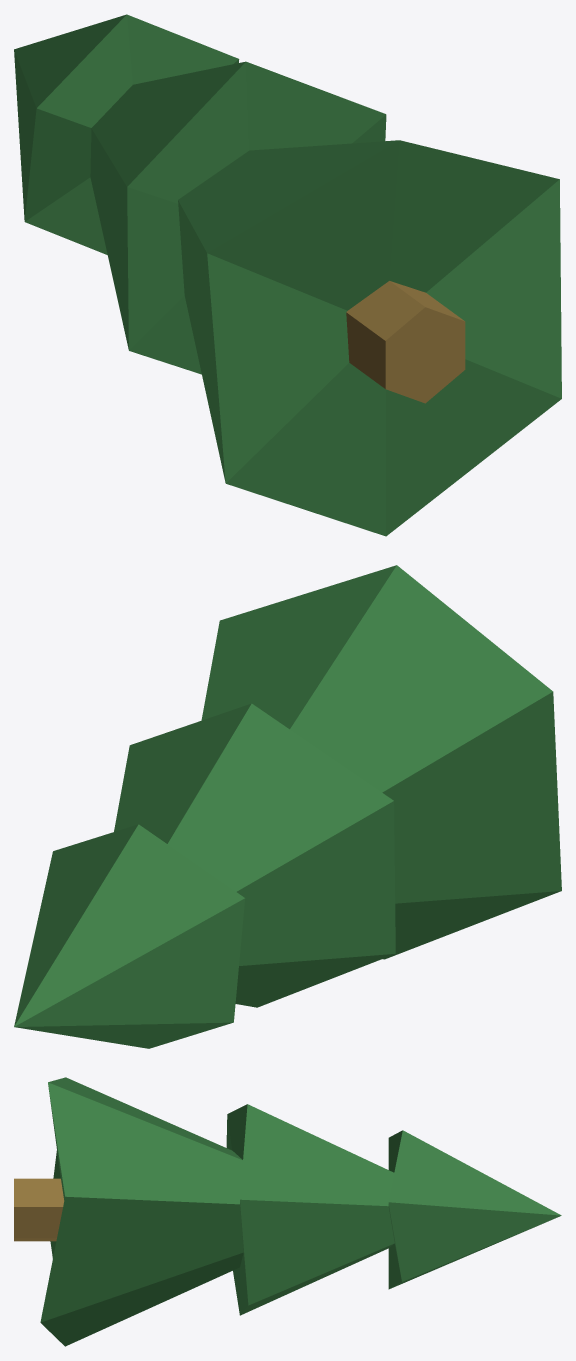
The model's file is fir.fbx.
3 views of the same model, one above another, from view 1: azimuth 30°, elevation 25°; view 2: azimuth 150°, elevation 25°; view 3: azimuth 270°, elevation 25° (orthographic). The views are drawn at different scales.
Parts seen in each view (by area): view 1: Цилиндр; view 2: Цилиндр; view 3: Цилиндр.
Part boxes in pixels (x1=…): Цилиндр: x1=14, y1=14, x2=561, y2=536; Цилиндр: x1=14, y1=565, x2=561, y2=1048; Цилиндр: x1=14, y1=1077, x2=561, y2=1346.
Size of the model in its own units: 2.29 by 2.53 by 4.74.
